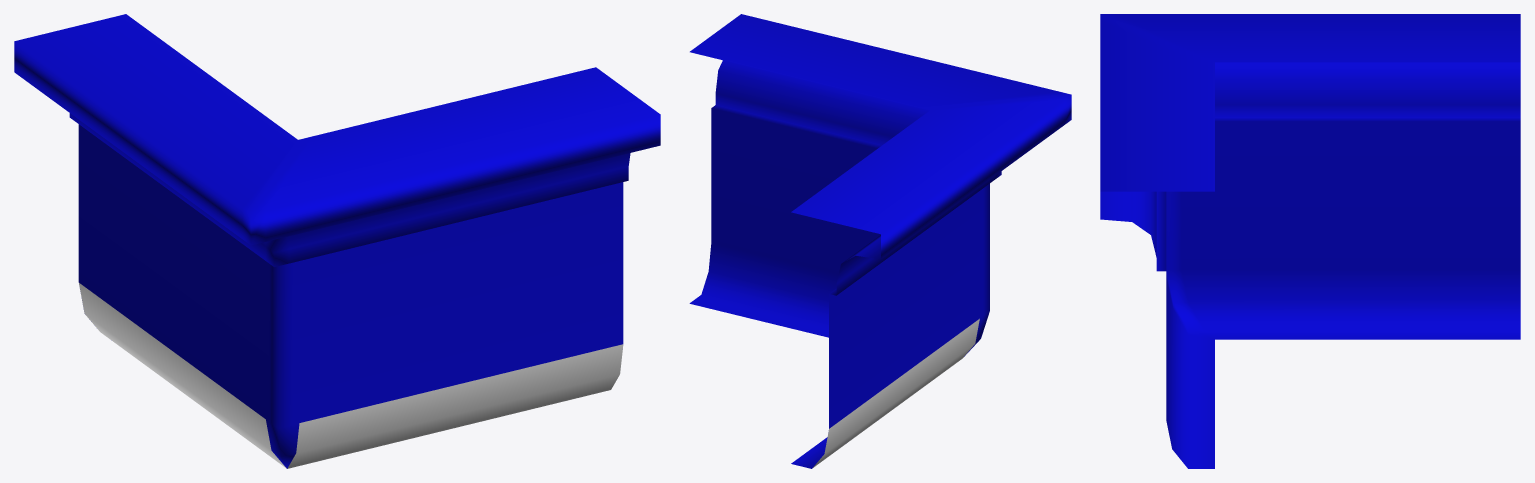
The model's file is SM_FriezeCCorner1m.fbx.
The picture shows the model from 3 angles, left to right: view 1: azimuth 30°, elevation 25°; view 2: azimuth 150°, elevation 25°; view 3: azimuth 270°, elevation 25°; orthographic projection. The views are drawn at different scales.
Visible parts, largest first — view 1: SM_FriezeCCorner1m; view 2: SM_FriezeCCorner1m; view 3: SM_FriezeCCorner1m.
Boxes of the visible parts, x1=… form: SM_FriezeCCorner1m: x1=14, y1=14, x2=660, y2=468; SM_FriezeCCorner1m: x1=689, y1=14, x2=1071, y2=468; SM_FriezeCCorner1m: x1=1100, y1=14, x2=1520, y2=468.
Size of the model in its own units: 137 by 100 by 137.
